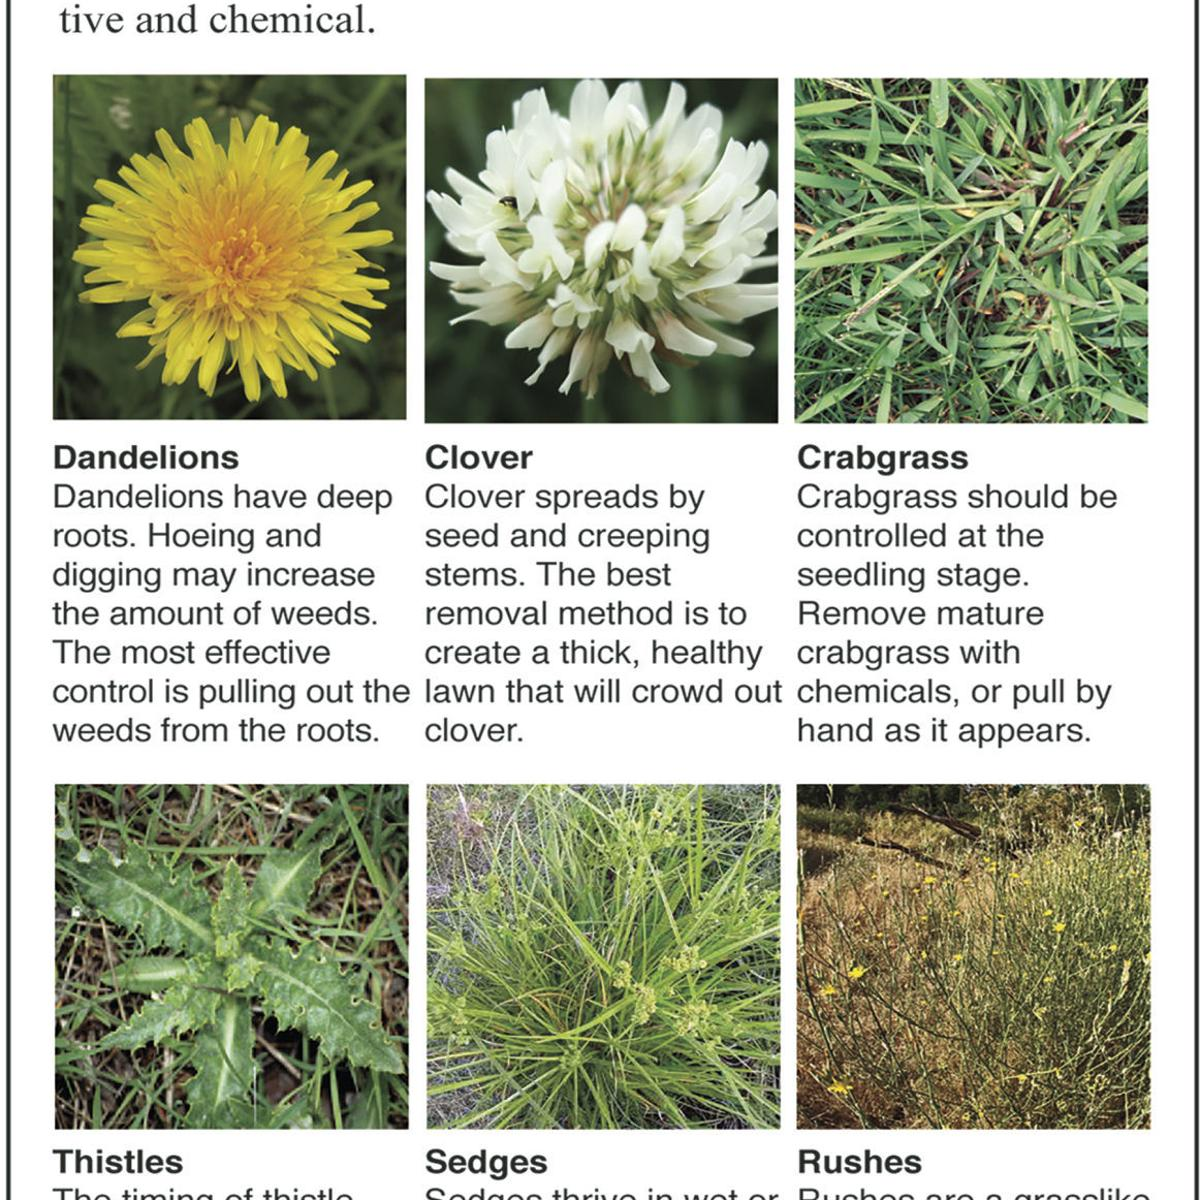crabgrass: (799, 84, 1148, 425)
